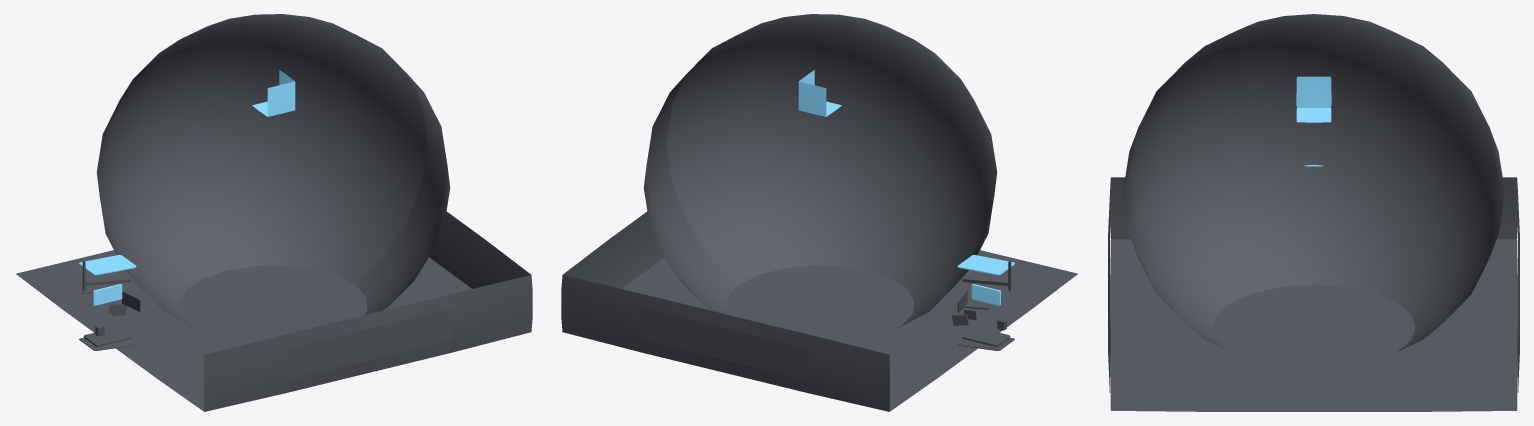
The model's file is place_station_research.glb.
3 views of the same model, side by side, from view 1: azimuth 30°, elevation 25°; view 2: azimuth 150°, elevation 25°; view 3: azimuth 270°, elevation 25° (orthographic). The views are drawn at different scales.
Parts seen in each view (by area): view 1: Research_Dome, Research_Base, Research_Sensor, DET_edge_chamfer_band, DET_dock_collar, DET_primary_story_a; view 2: Research_Dome, Research_Base, Research_Sensor, DET_edge_chamfer_band, DET_dock_collar, DET_primary_story_a; view 3: Research_Dome, Research_Base, Research_Sensor.
Part boxes in pixels (<box>): Research_Dome: <box>96,14,450,330</box>; Research_Base: <box>16,211,532,411</box>; Research_Sensor: <box>252,70,295,116</box>; DET_edge_chamfer_band: <box>79,255,136,275</box>; DET_dock_collar: <box>83,327,131,346</box>; DET_primary_story_a: <box>93,284,122,305</box>; Research_Dome: <box>643,14,997,330</box>; Research_Base: <box>561,211,1077,411</box>; Research_Sensor: <box>798,70,841,116</box>; DET_edge_chamfer_band: <box>957,255,1014,275</box>; DET_dock_collar: <box>962,327,1010,346</box>; DET_primary_story_a: <box>971,284,1000,305</box>; Research_Dome: <box>1123,14,1504,351</box>; Research_Base: <box>1108,177,1519,411</box>; Research_Sensor: <box>1296,76,1331,122</box>.
Bounding box in the file's own units: 15.04 × 12 × 14.
